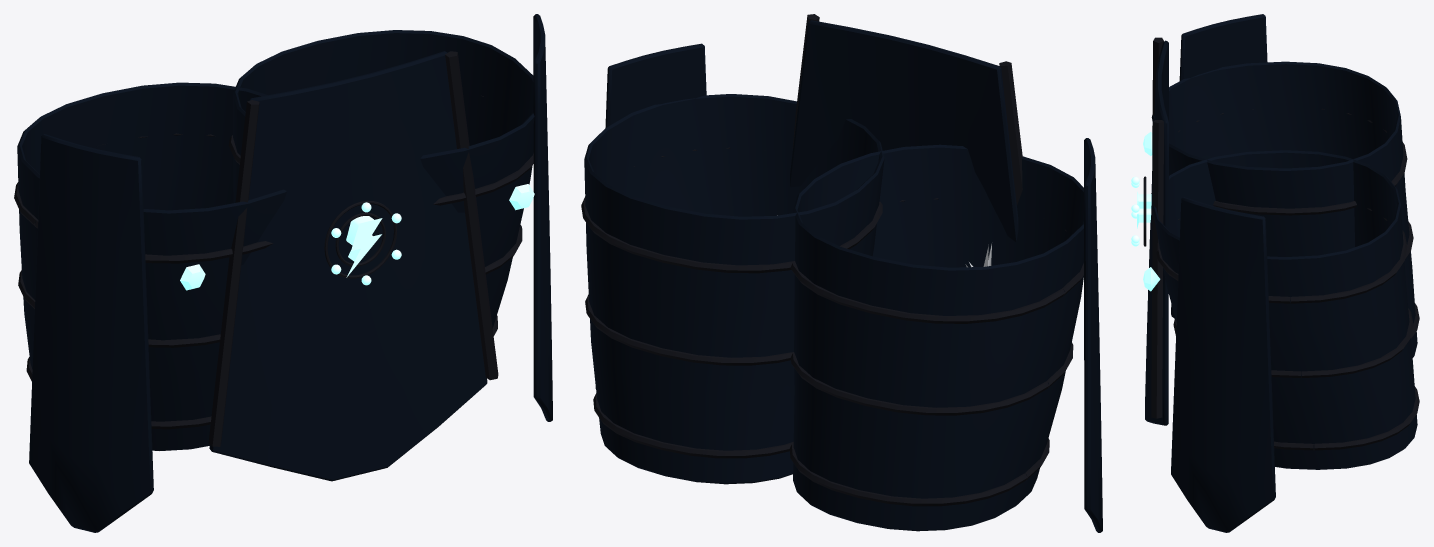
Rendered from esc_null_choir_leggings.glb.
3 renders of one model, left to right at view 1: azimuth 30°, elevation 25°; view 2: azimuth 150°, elevation 25°; view 3: azimuth 270°, elevation 25°, orthographic. The views are drawn at different scales.
Visible parts, largest first — view 1: esc_null_choir_leggings, AT_thigh_R, AT_thigh_L; view 2: AT_thigh_R, AT_thigh_L, esc_null_choir_leggings; view 3: AT_thigh_L, AT_thigh_R, esc_null_choir_leggings.
Part boxes in pixels (left/top/right/bottom): esc_null_choir_leggings: left=208, top=51, right=498, bottom=481; AT_thigh_R: left=14, top=82, right=286, bottom=532; AT_thigh_L: left=228, top=14, right=552, bottom=421; AT_thigh_R: left=789, top=138, right=1102, bottom=532; AT_thigh_L: left=581, top=43, right=884, bottom=484; esc_null_choir_leggings: left=777, top=14, right=1022, bottom=267; AT_thigh_L: left=1143, top=150, right=1419, bottom=532; AT_thigh_R: left=1143, top=14, right=1419, bottom=357; esc_null_choir_leggings: left=1131, top=37, right=1168, bottom=425.
Size of the model in its own units: 0.5162 by 0.4068 by 0.2996.
